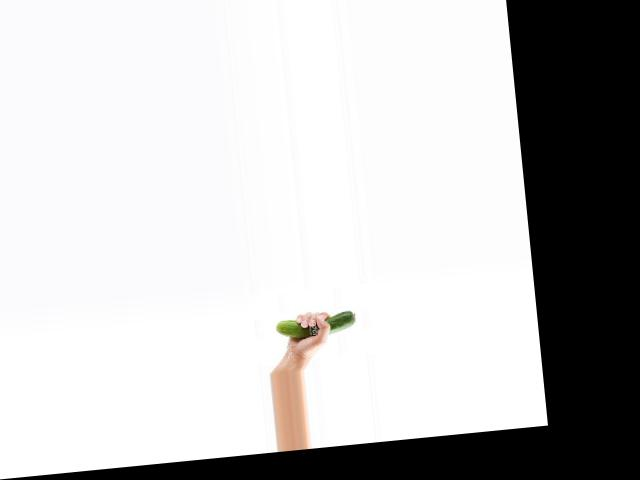cucumber: (275, 309, 356, 340)
